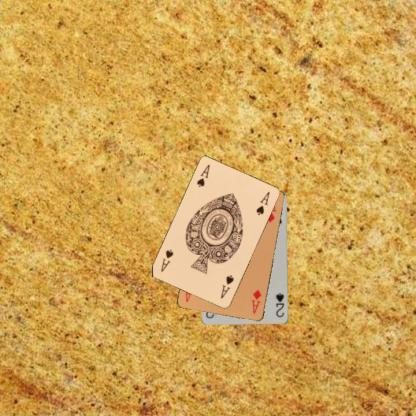2s: (274, 290, 285, 318)
Ad: (249, 287, 263, 315)
As: (218, 273, 235, 300), (194, 162, 211, 188)
